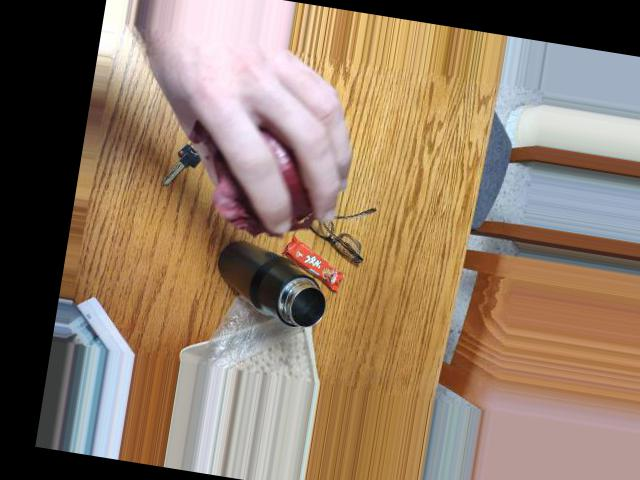onion: (190, 104, 334, 221)
